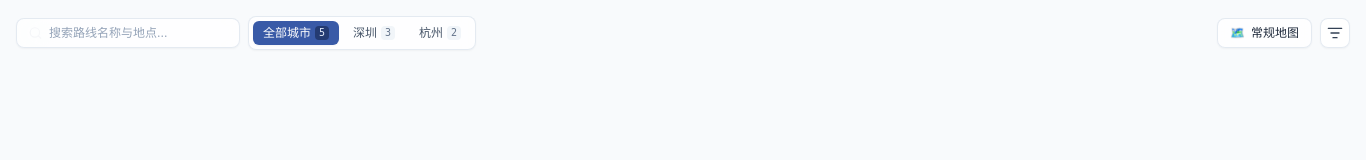
DashboardControls › 底图样式菜单：展开、选择后回调并关闭
This screenshot has width=1366, height=160.
Click the button "🗺️ 常规地图" at (1264, 33), box [1217,18,1312,48]
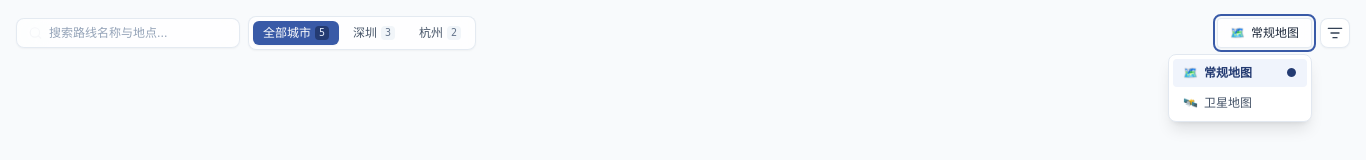
Expected: the text "卫星地图" is shown, [1204,95,1252,111]
Click the button "🛰️ 卫星地图" at (1240, 103), box [1173,89,1307,117]
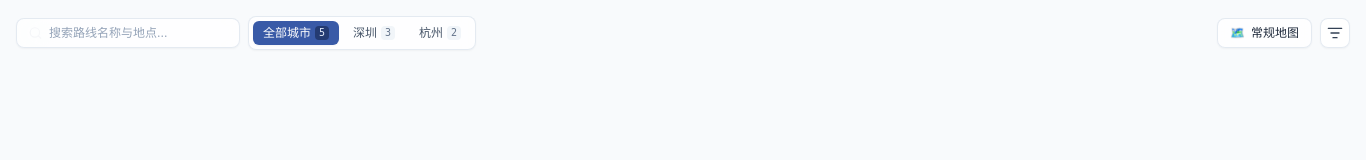
Expected: the button "卫星地图" is gone
